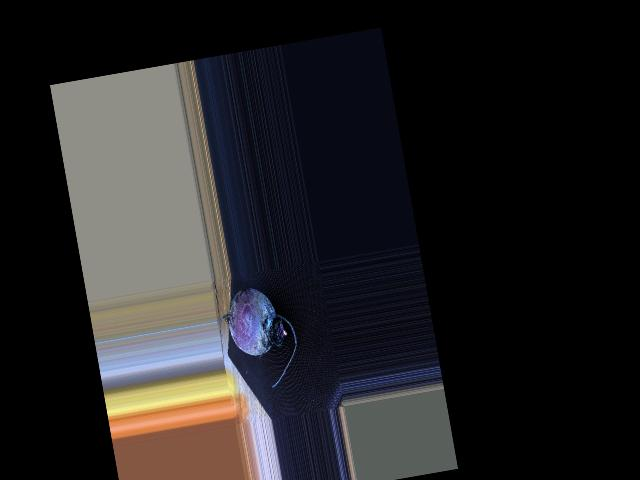beet: (212, 281, 304, 395)
